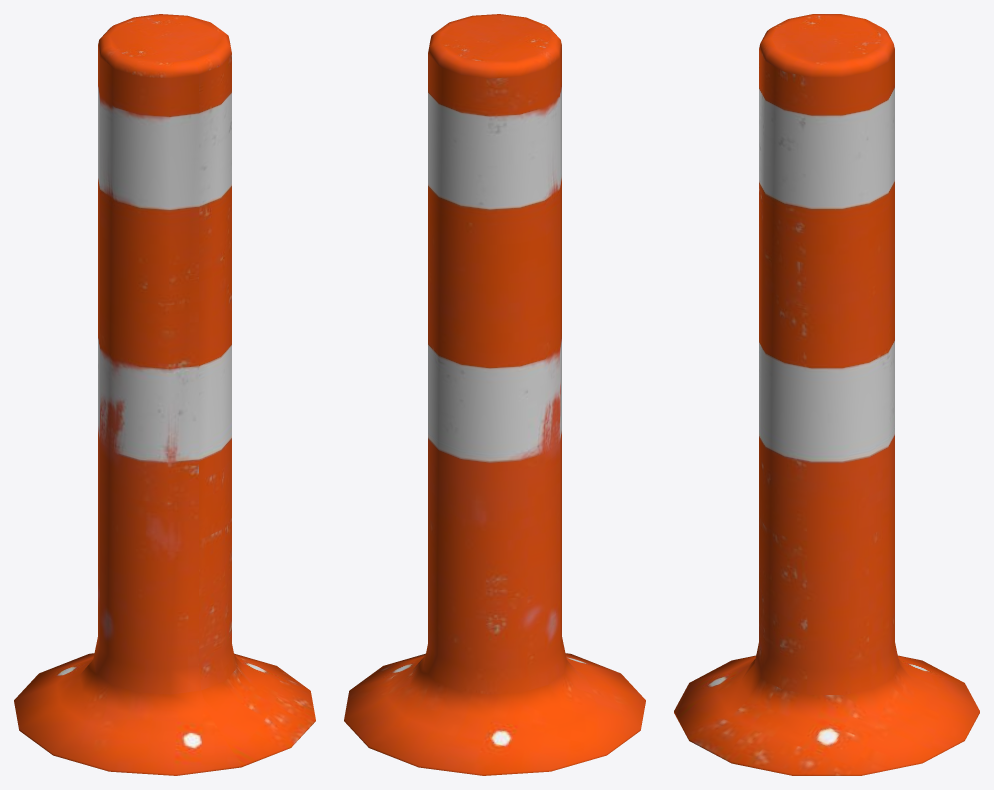
Rendered from o3_cantiere_04.glb.
3 renders of one model, left to right at view 1: azimuth 30°, elevation 25°; view 2: azimuth 150°, elevation 25°; view 3: azimuth 270°, elevation 25°, orthographic.
Visible parts, largest first — view 1: sb_modello; view 2: sb_modello; view 3: sb_modello.
Part boxes in pixels (x1,y1,x2,y2): sb_modello: [14, 14, 315, 775]; sb_modello: [344, 14, 645, 775]; sb_modello: [674, 14, 979, 775].
Size of the model in its own units: 0.2405 by 0.6 by 0.2467.
1 material, 1 textured.
